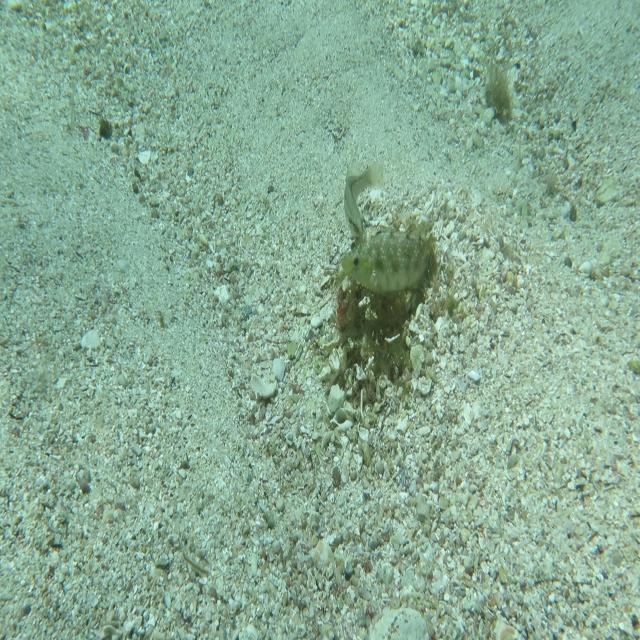SPA: (340, 223, 436, 297)
female: (343, 153, 386, 239)
nest: (329, 212, 446, 410)
